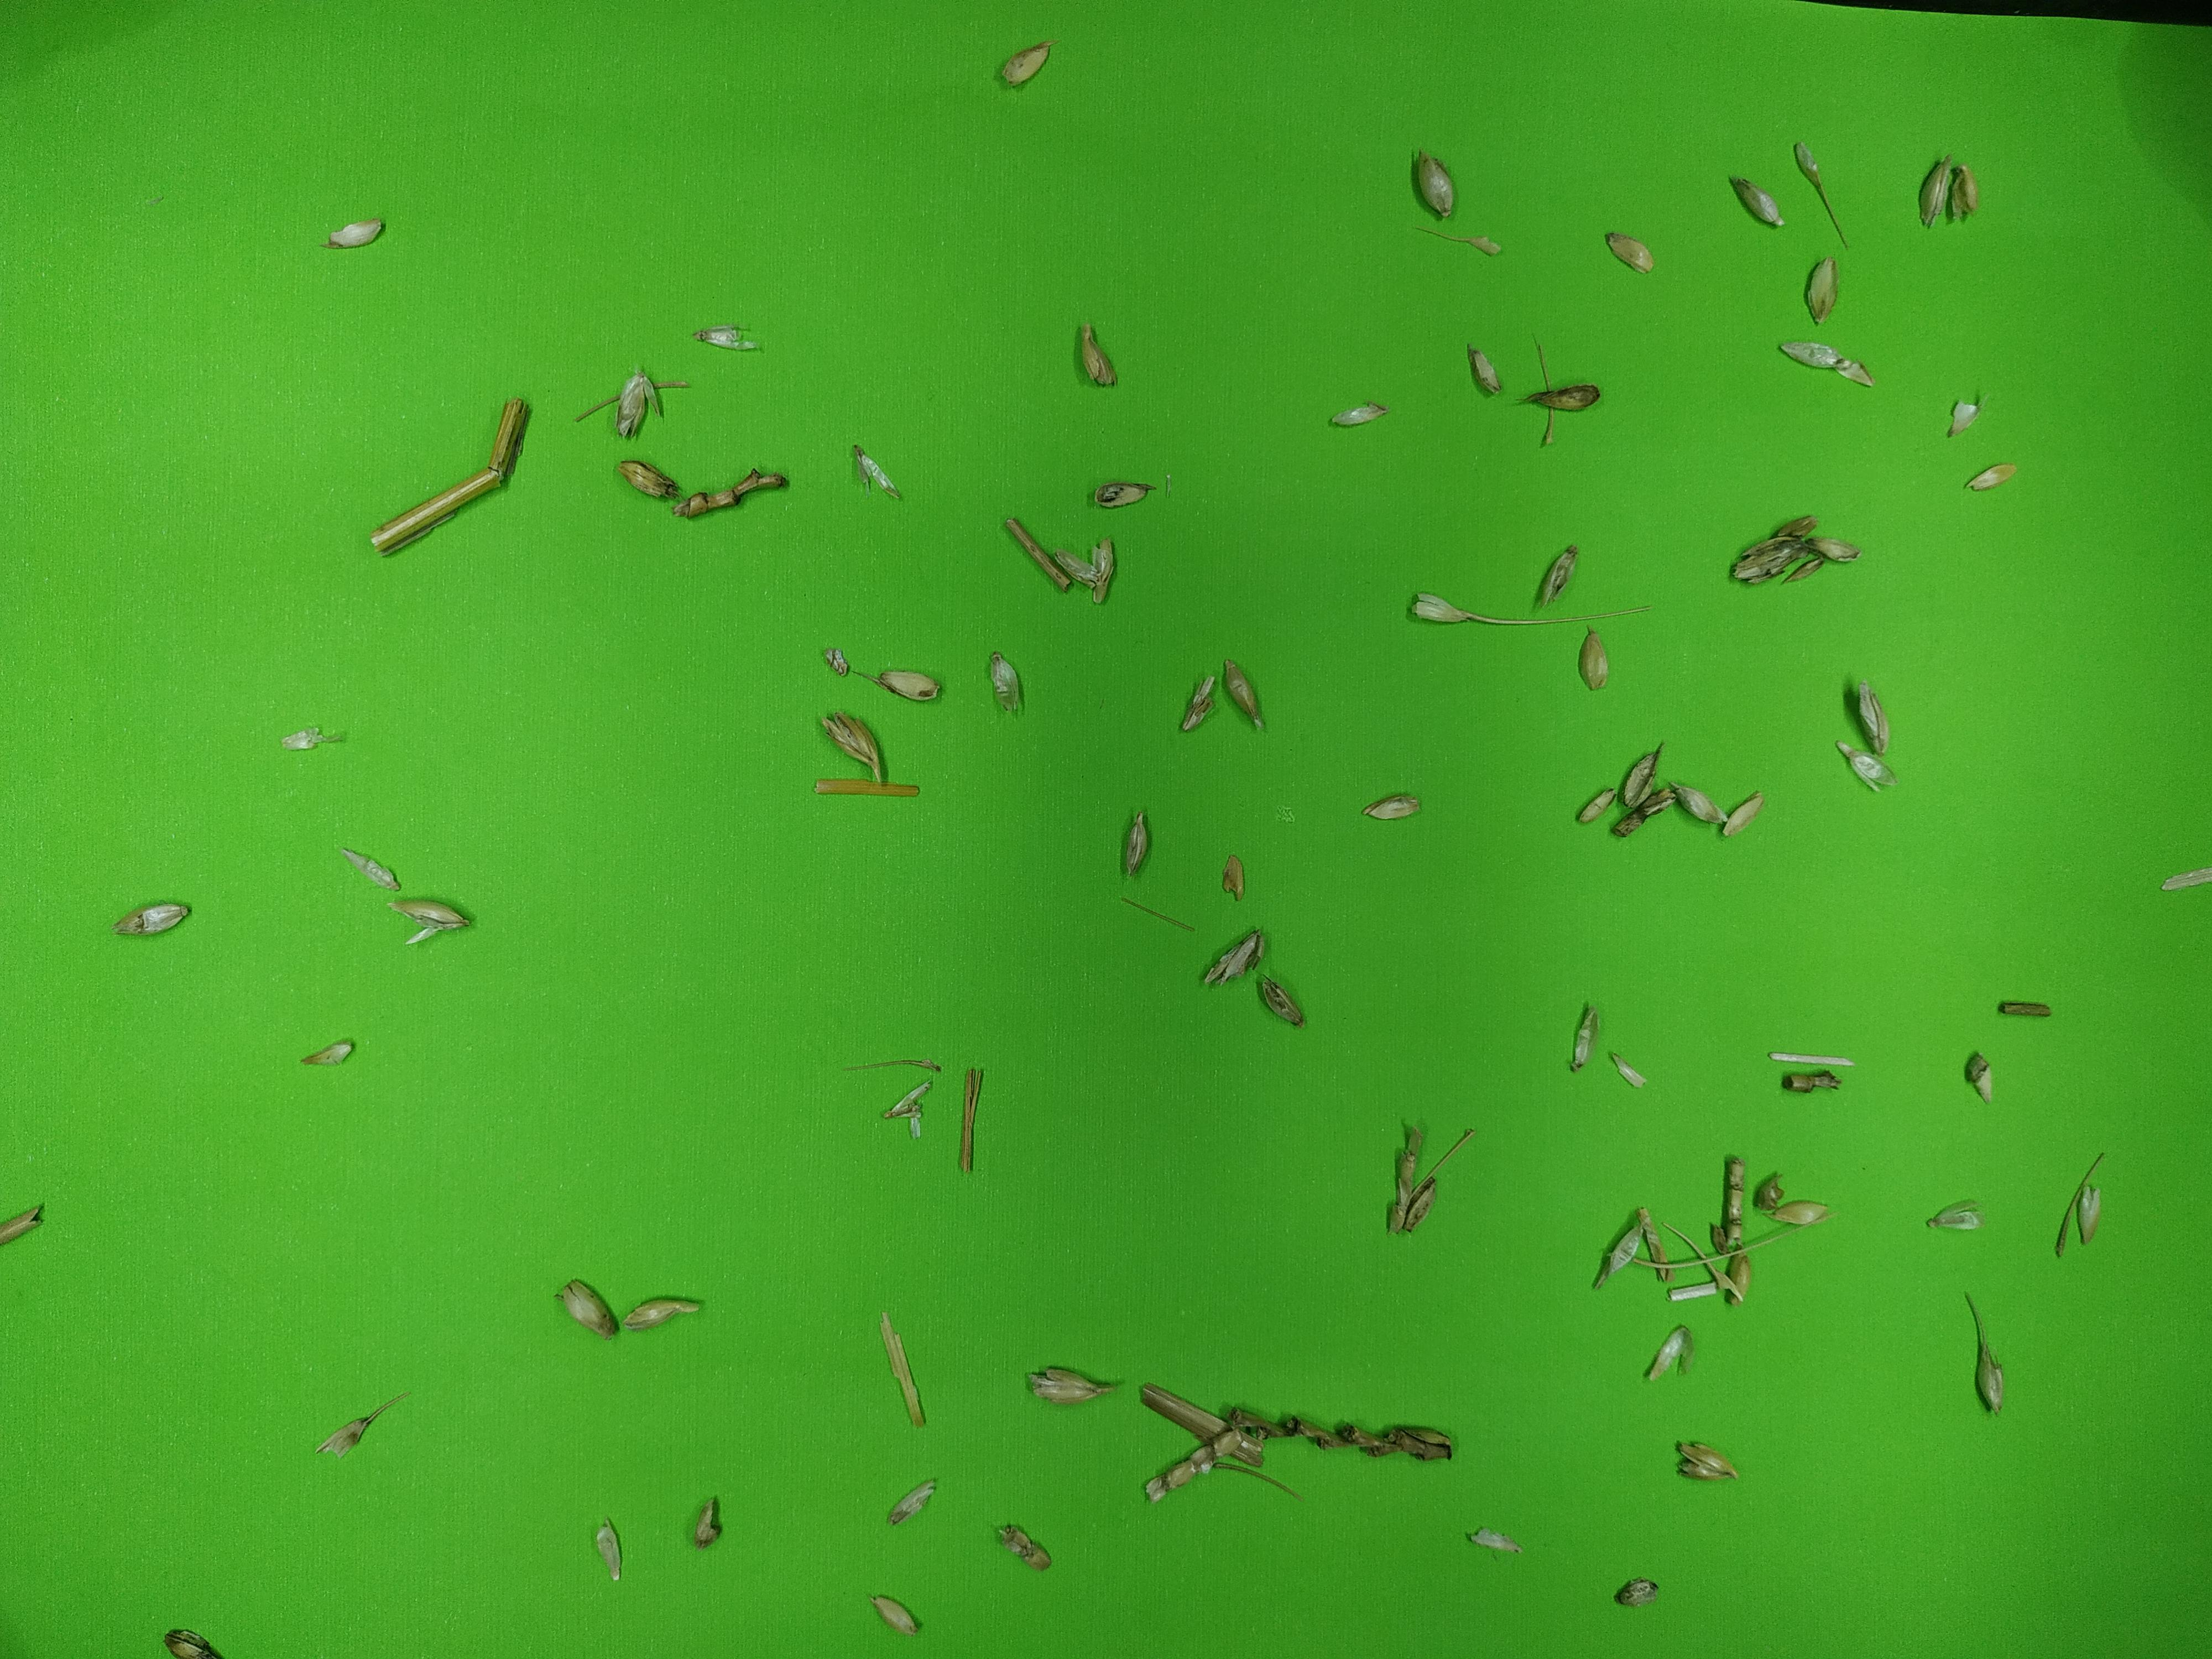impureza: (371, 390, 542, 558), (1231, 1412, 1449, 1466), (1404, 591, 1669, 629), (1137, 1431, 1271, 1504), (874, 1297, 927, 1436), (672, 462, 798, 519), (1961, 1286, 2013, 1420), (1792, 141, 1853, 253), (1000, 507, 1075, 594), (319, 1387, 411, 1455), (1136, 1378, 1224, 1441), (1778, 338, 1881, 392), (1017, 1359, 1125, 1408), (1710, 1148, 1759, 1253), (820, 706, 888, 781), (1383, 1115, 1425, 1236), (1200, 924, 1271, 990), (1592, 1211, 1649, 1293), (543, 1277, 618, 1340), (618, 1291, 711, 1340), (845, 439, 909, 505), (1407, 143, 1465, 216), (385, 894, 481, 938), (1730, 533, 1811, 584), (1071, 317, 1122, 399), (1836, 739, 1907, 796), (953, 1056, 986, 1178), (979, 1514, 1047, 1574), (1724, 176, 1794, 234), (1209, 1464, 1312, 1502), (850, 664, 949, 702), (1620, 735, 1670, 810), (615, 364, 667, 436), (111, 899, 200, 941), (1420, 1119, 1477, 1183), (1561, 995, 1602, 1082), (1801, 247, 1846, 328), (1846, 673, 1890, 755), (871, 1073, 939, 1126), (1642, 1316, 1693, 1385), (1632, 1195, 1672, 1281), (340, 838, 401, 894), (1923, 1190, 1994, 1237), (1534, 544, 1583, 612), (686, 314, 761, 357), (888, 1471, 939, 1535), (1409, 225, 1507, 258), (1221, 657, 1264, 730), (799, 775, 930, 800), (1676, 1441, 1740, 1490), (996, 37, 1061, 85), (615, 451, 679, 500), (1615, 789, 1677, 838), (1261, 964, 1308, 1028), (1918, 153, 1956, 232), (831, 1049, 946, 1075), (1115, 809, 1155, 882), (1601, 230, 1660, 279), (1954, 1046, 2001, 1107), (1465, 1518, 1526, 1565), (1174, 669, 1214, 741), (585, 1513, 625, 1584), (315, 211, 383, 253), (1576, 627, 1616, 697), (1085, 472, 1151, 514), (300, 1033, 362, 1077), (1113, 896, 1195, 929), (1669, 777, 1726, 824), (1461, 340, 1503, 404), (1942, 387, 1993, 439), (0, 1199, 54, 1248), (1085, 538, 1123, 606), (1780, 1063, 1846, 1101), (1512, 382, 1602, 410), (1989, 990, 2060, 1025), (270, 720, 354, 749), (869, 1593, 925, 1635), (1325, 401, 1392, 436), (1766, 1044, 1860, 1068), (1951, 159, 1989, 218), (1717, 795, 1771, 836), (2076, 1183, 2111, 1248), (1573, 781, 1622, 826), (1409, 1173, 1442, 1239), (160, 1622, 219, 1659), (1770, 509, 1824, 549), (1970, 455, 2020, 497), (988, 652, 1022, 711), (1719, 1248, 1754, 1303), (2052, 1182, 2076, 1258), (1667, 1277, 1730, 1307), (1609, 1047, 1649, 1091), (691, 1499, 725, 1551), (1749, 1168, 1791, 1208), (1366, 791, 1418, 823), (1777, 1195, 1822, 1230), (2160, 864, 2212, 894), (1217, 852, 1249, 901), (1808, 535, 1857, 566), (1615, 1575, 1656, 1610), (820, 640, 852, 678), (1616, 782, 1622, 784)
